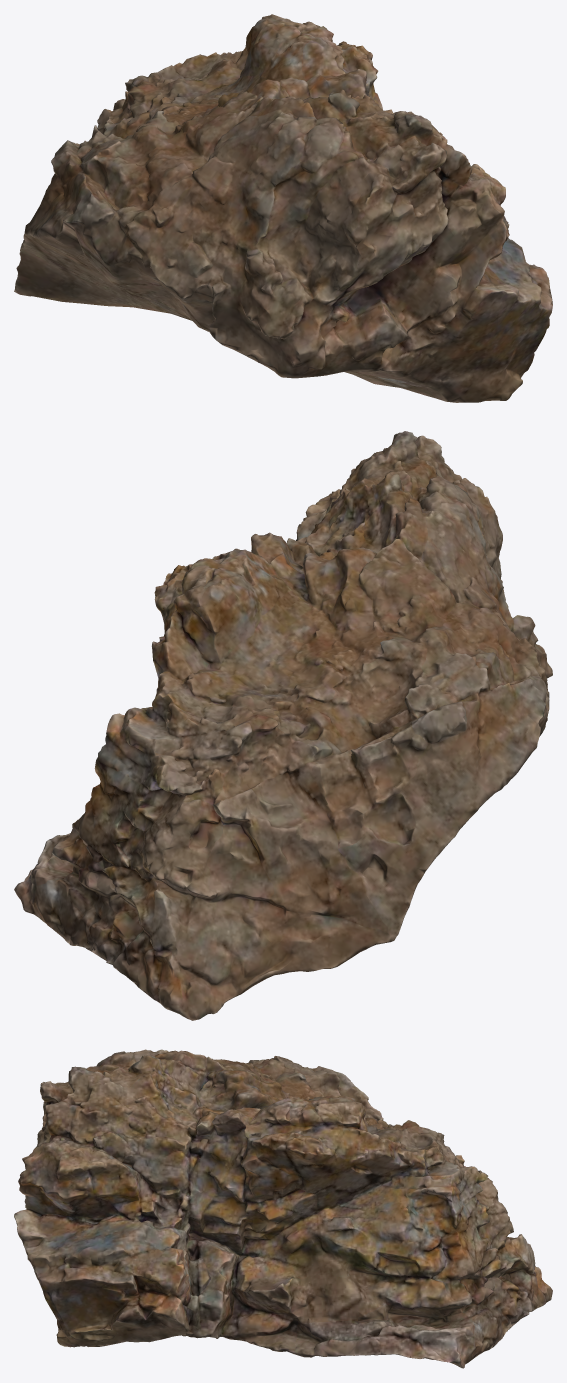
Rendered from boulder_01.gltf.
3 views of the same model, one above another, from view 1: azimuth 30°, elevation 25°; view 2: azimuth 150°, elevation 25°; view 3: azimuth 270°, elevation 25° (orthographic). The views are drawn at different scales.
Parts seen in each view (by area): view 1: boulder_01; view 2: boulder_01; view 3: boulder_01.
Part boxes in pixels (x1,y1,x2,y2): boulder_01: (14,14,552,402); boulder_01: (14,431,552,1020); boulder_01: (14,1049,552,1368).
Size of the model in its own units: 1.27 by 1 by 1.83.
1 material, 1 textured.
